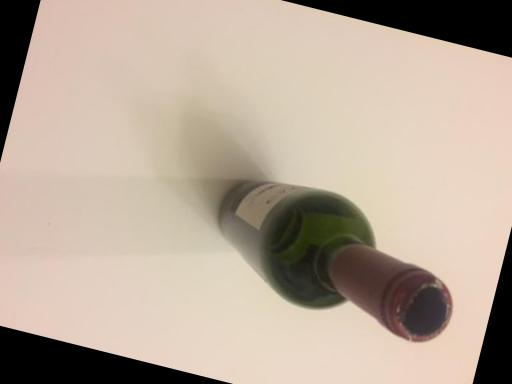glass: (184, 150, 482, 380)
